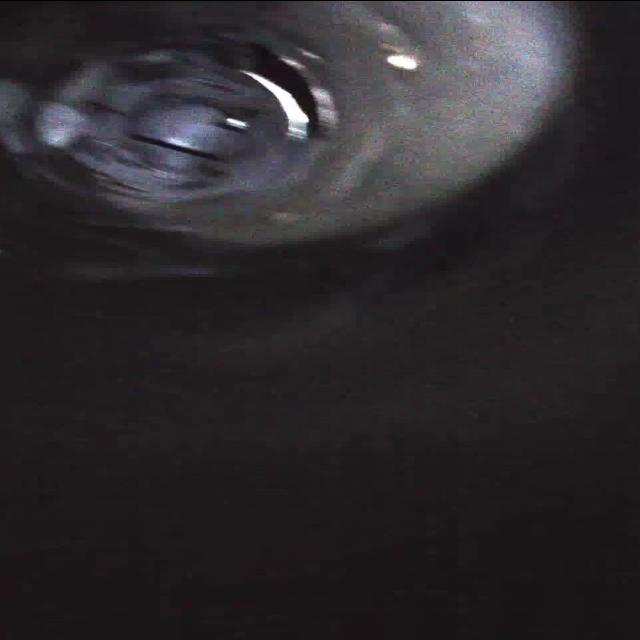hole: (233, 34, 337, 138)
